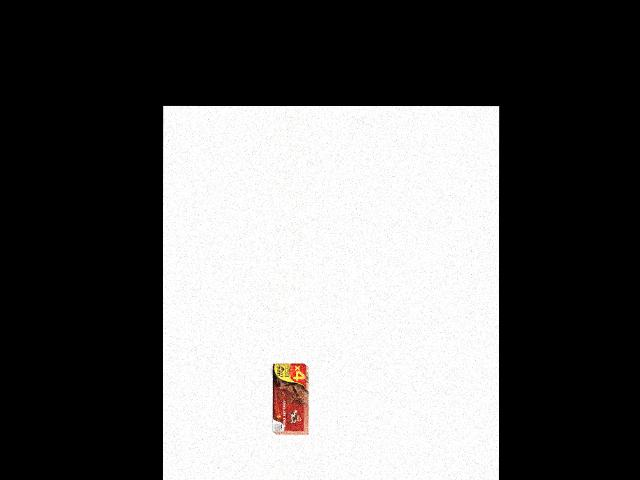chocolate: (270, 362, 308, 433)
